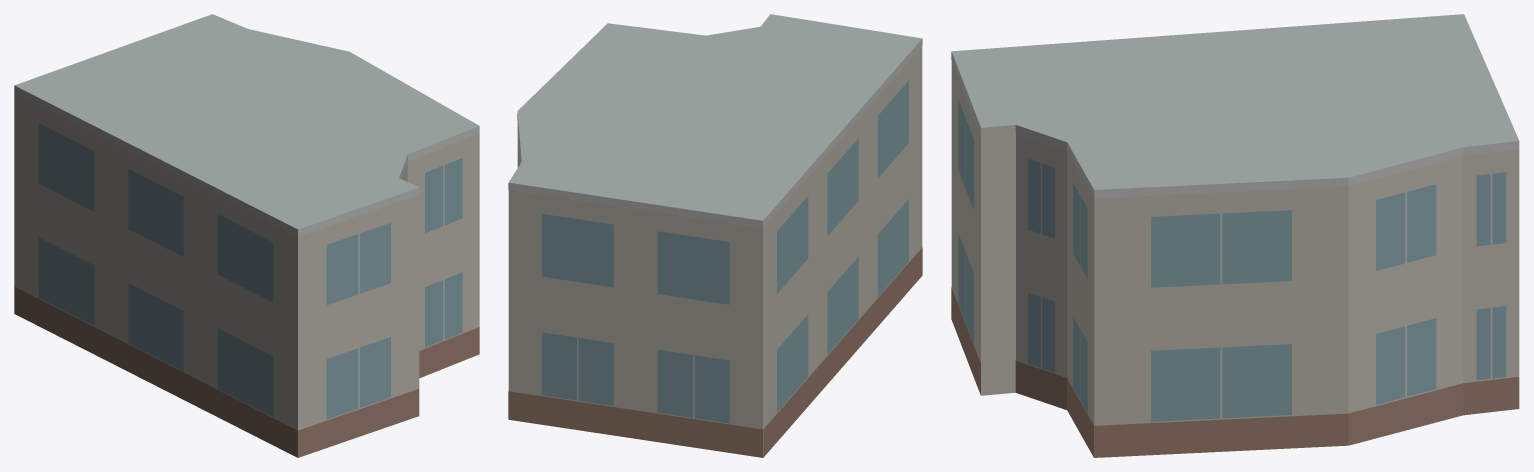
The model's file is survey-upis-32608747.glb.
3 renders of one model, left to right at view 1: azimuth 30°, elevation 25°; view 2: azimuth 150°, elevation 25°; view 3: azimuth 270°, elevation 25°, orthographic. The views are drawn at different scales.
Parts seen in each view (by area): view 1: survey-upis-32608747.tmp; view 2: survey-upis-32608747.tmp; view 3: survey-upis-32608747.tmp.
Boxes of the visible parts, left/top/right/bottom form: survey-upis-32608747.tmp: left=14, top=14, right=479, bottom=457; survey-upis-32608747.tmp: left=508, top=14, right=922, bottom=457; survey-upis-32608747.tmp: left=951, top=14, right=1519, bottom=457.
Size of the model in its own units: 10.72 by 7.6 by 14.61.
